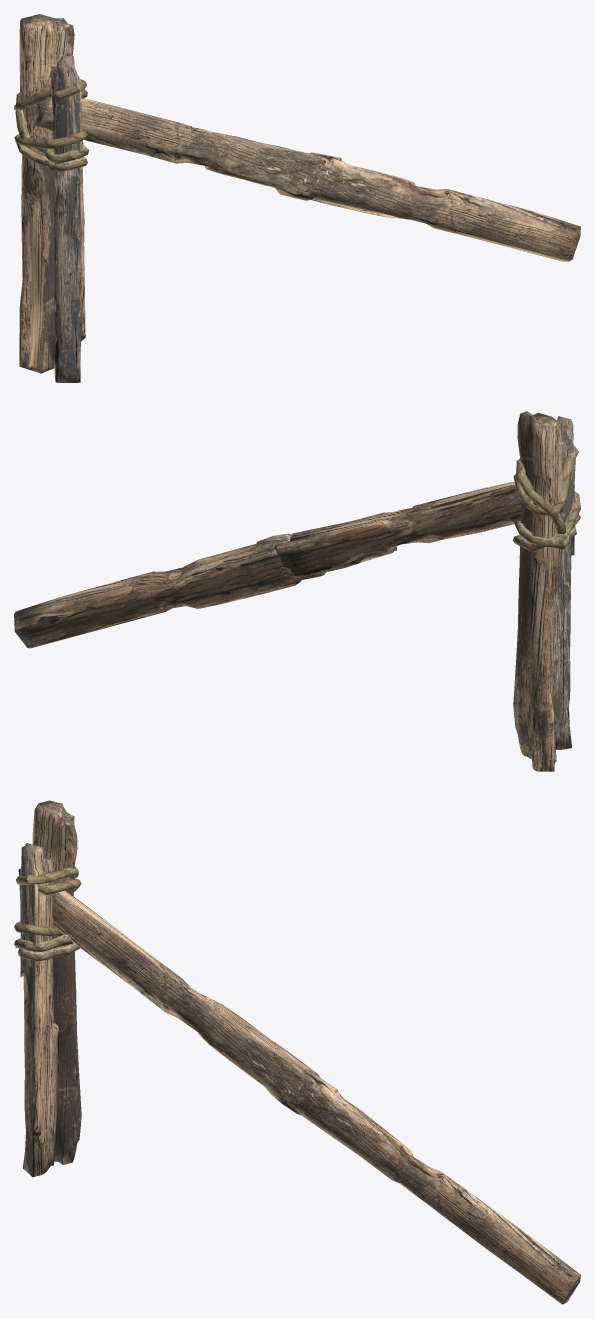
File: Fence5.fbx
3 renders of one model, top to bottom at view 1: azimuth 30°, elevation 25°; view 2: azimuth 150°, elevation 25°; view 3: azimuth 330°, elevation 25°, orthographic.
Parts seen in each view (by area): view 1: fence5_lod0; view 2: fence5_lod0; view 3: fence5_lod0.
Part boxes in pixels (left/top/right/bottom): fence5_lod0: left=14, top=14, right=580, bottom=382; fence5_lod0: left=14, top=411, right=580, bottom=771; fence5_lod0: left=14, top=800, right=580, bottom=1304.
Size of what is drawn, in the model's own units: 301 by 188 by 40.52.
